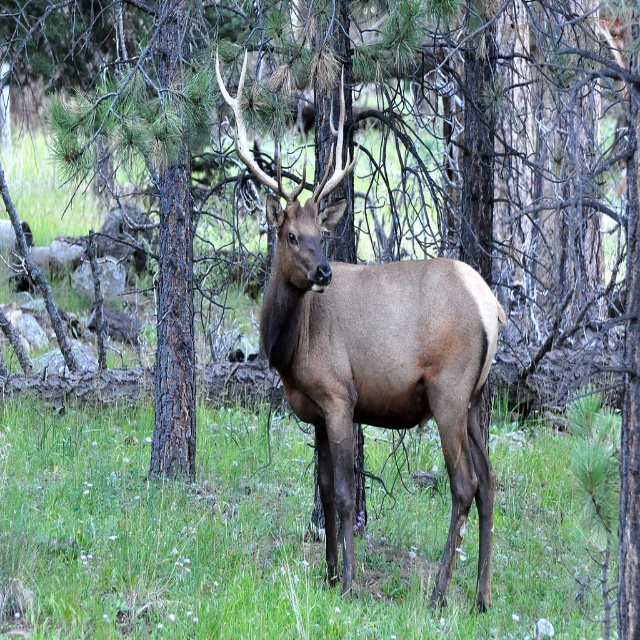Deer: (216, 43, 510, 617)
